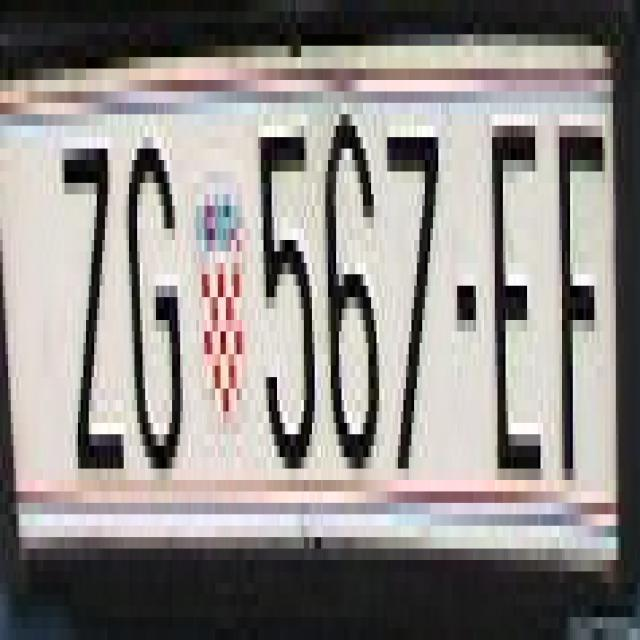5: (252, 126, 318, 468)
6: (326, 114, 380, 457)
7: (384, 126, 438, 468)
E: (489, 114, 544, 480)
F: (556, 103, 608, 480)
G: (126, 114, 183, 469)
Z: (59, 114, 124, 469)
